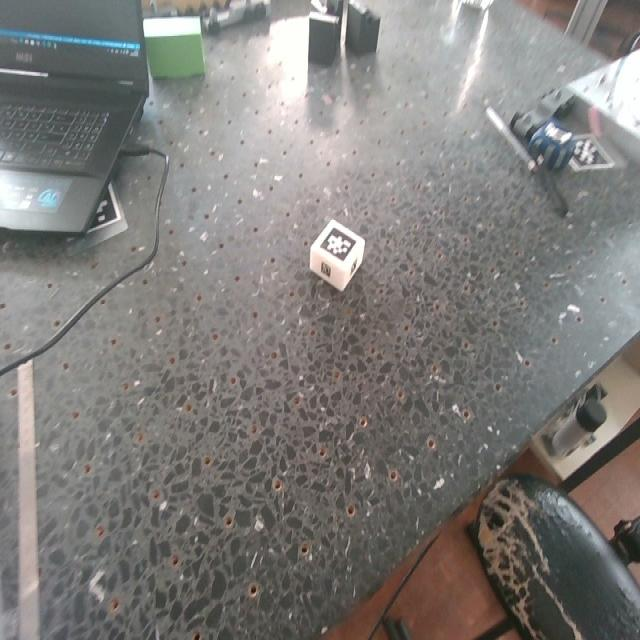Cube: (308, 220, 367, 292)
